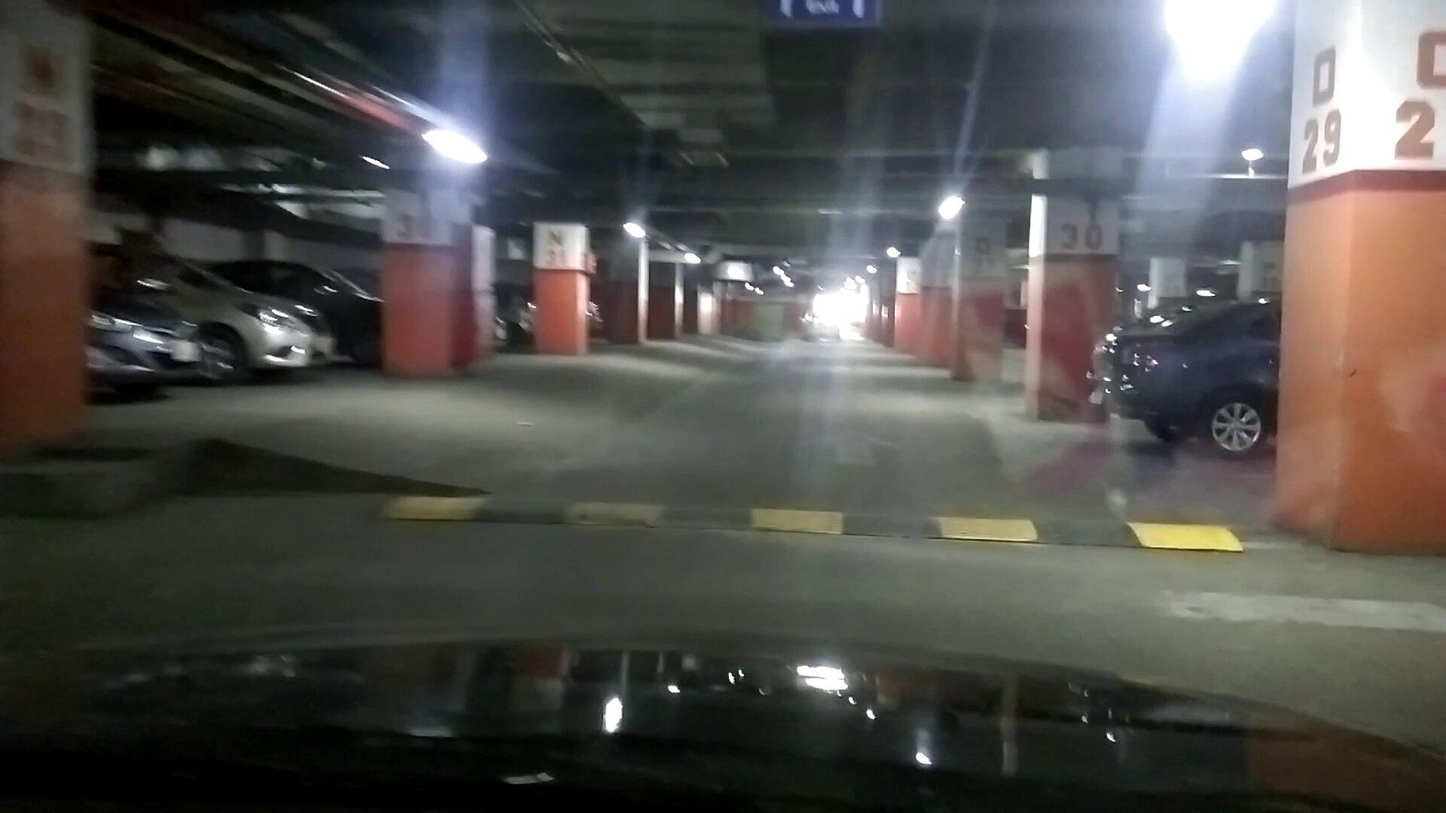Bump: (384, 490, 1246, 553)
